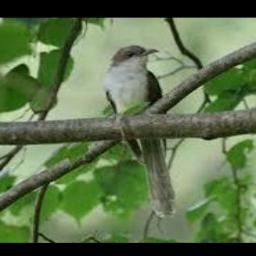Cuckoo: (104, 45, 174, 218)
